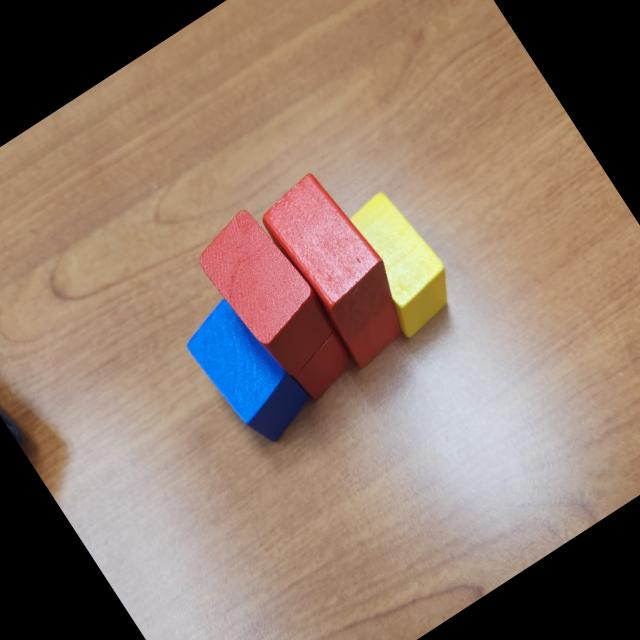blue: (175, 287, 322, 456)
red: (186, 199, 348, 387), (251, 165, 409, 346), (282, 326, 364, 404), (337, 300, 414, 370)
yellow: (332, 182, 468, 340)
